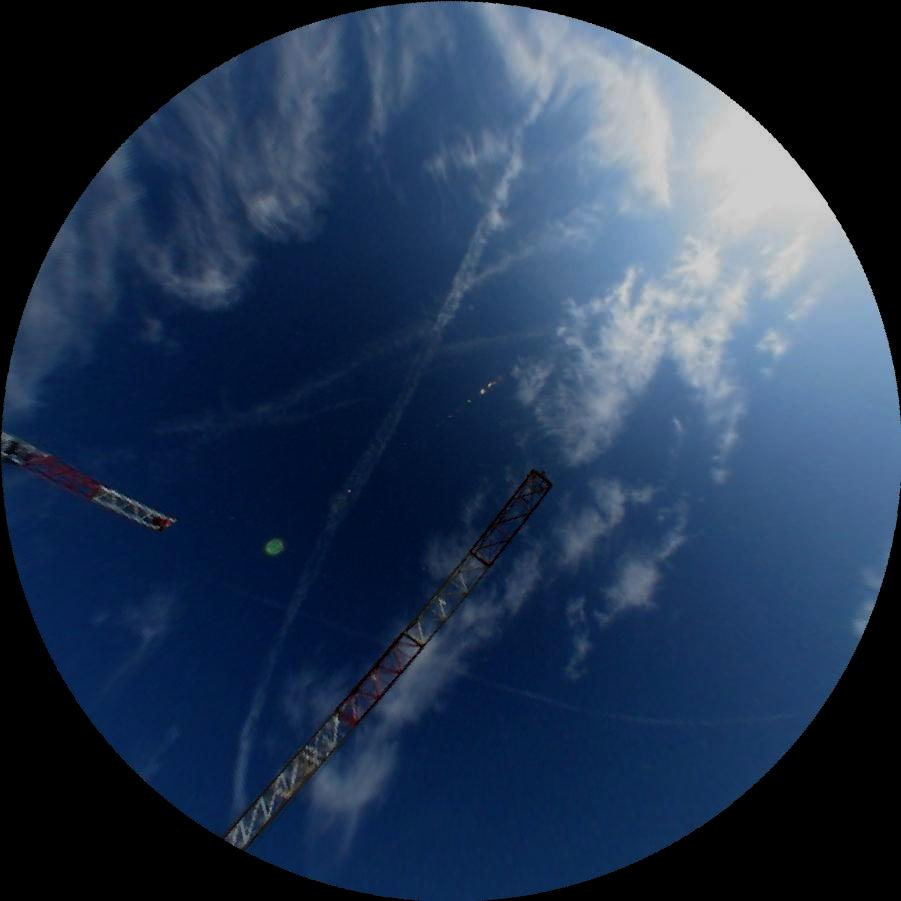contrail veryold: (199, 198, 501, 824), (242, 313, 436, 428)
contrail young: (135, 561, 796, 762)
unknow: (157, 391, 379, 442), (466, 209, 582, 288), (385, 318, 551, 371)
